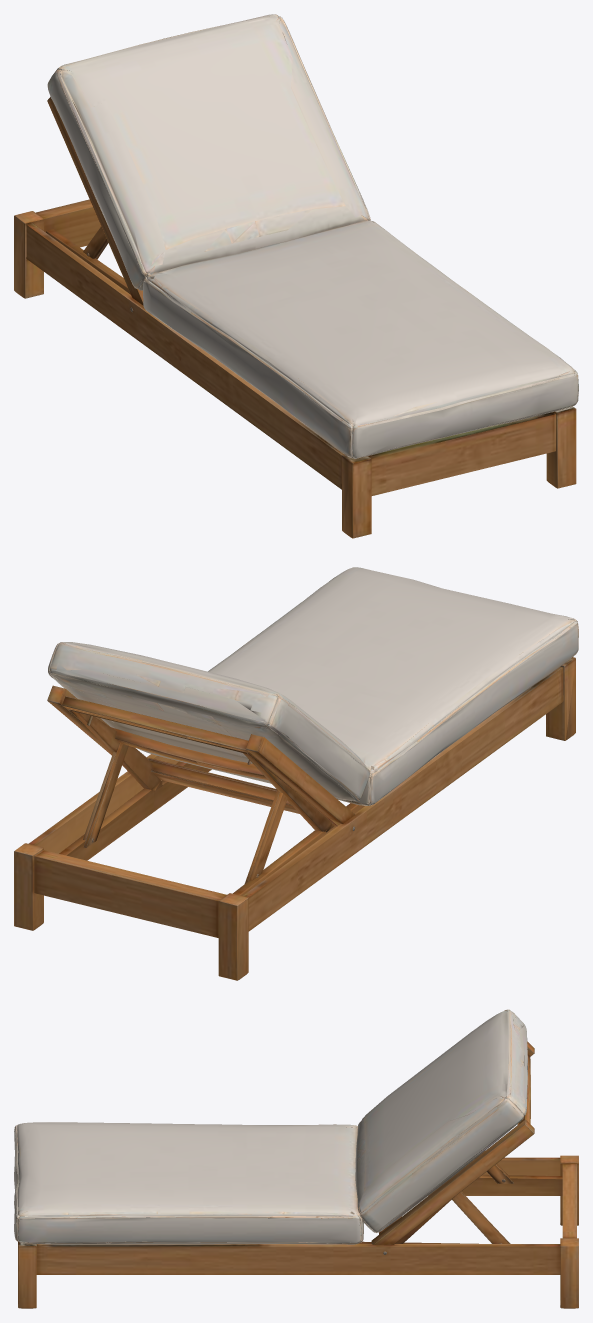
File: sunbed.glb
The picture shows the model from 3 angles, top to bottom: view 1: azimuth 30°, elevation 25°; view 2: azimuth 150°, elevation 25°; view 3: azimuth 270°, elevation 25°; orthographic projection. The views are drawn at different scales.
Visible parts, largest first — view 1: tripo_node_94a00972-06b4-4873-8825-3cab7f92ed6a; view 2: tripo_node_94a00972-06b4-4873-8825-3cab7f92ed6a; view 3: tripo_node_94a00972-06b4-4873-8825-3cab7f92ed6a.
Part boxes in pixels (bbox=[...]): tripo_node_94a00972-06b4-4873-8825-3cab7f92ed6a: bbox=[14, 14, 578, 538]; tripo_node_94a00972-06b4-4873-8825-3cab7f92ed6a: bbox=[14, 567, 578, 980]; tripo_node_94a00972-06b4-4873-8825-3cab7f92ed6a: bbox=[14, 1009, 578, 1308].
Bounding box in the file's own units: 0.7912 × 0.8303 × 2.
1 material, 1 textured.
